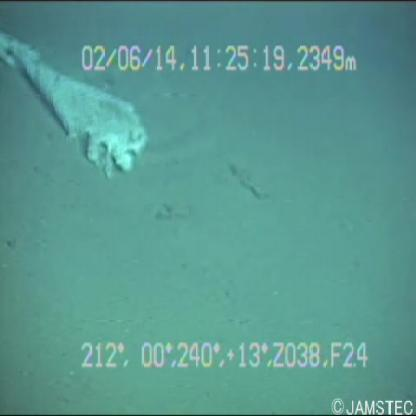Rác: (1, 32, 151, 185)
